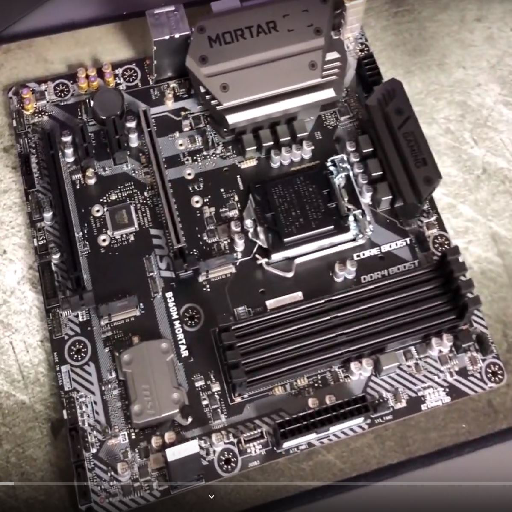CPU: (223, 138, 375, 281)
GPU: (136, 105, 187, 254)
MOTHERBOARD: (5, 3, 509, 512)
RAM: (210, 245, 481, 403)
SSD: (97, 293, 144, 326), (198, 250, 235, 282)
